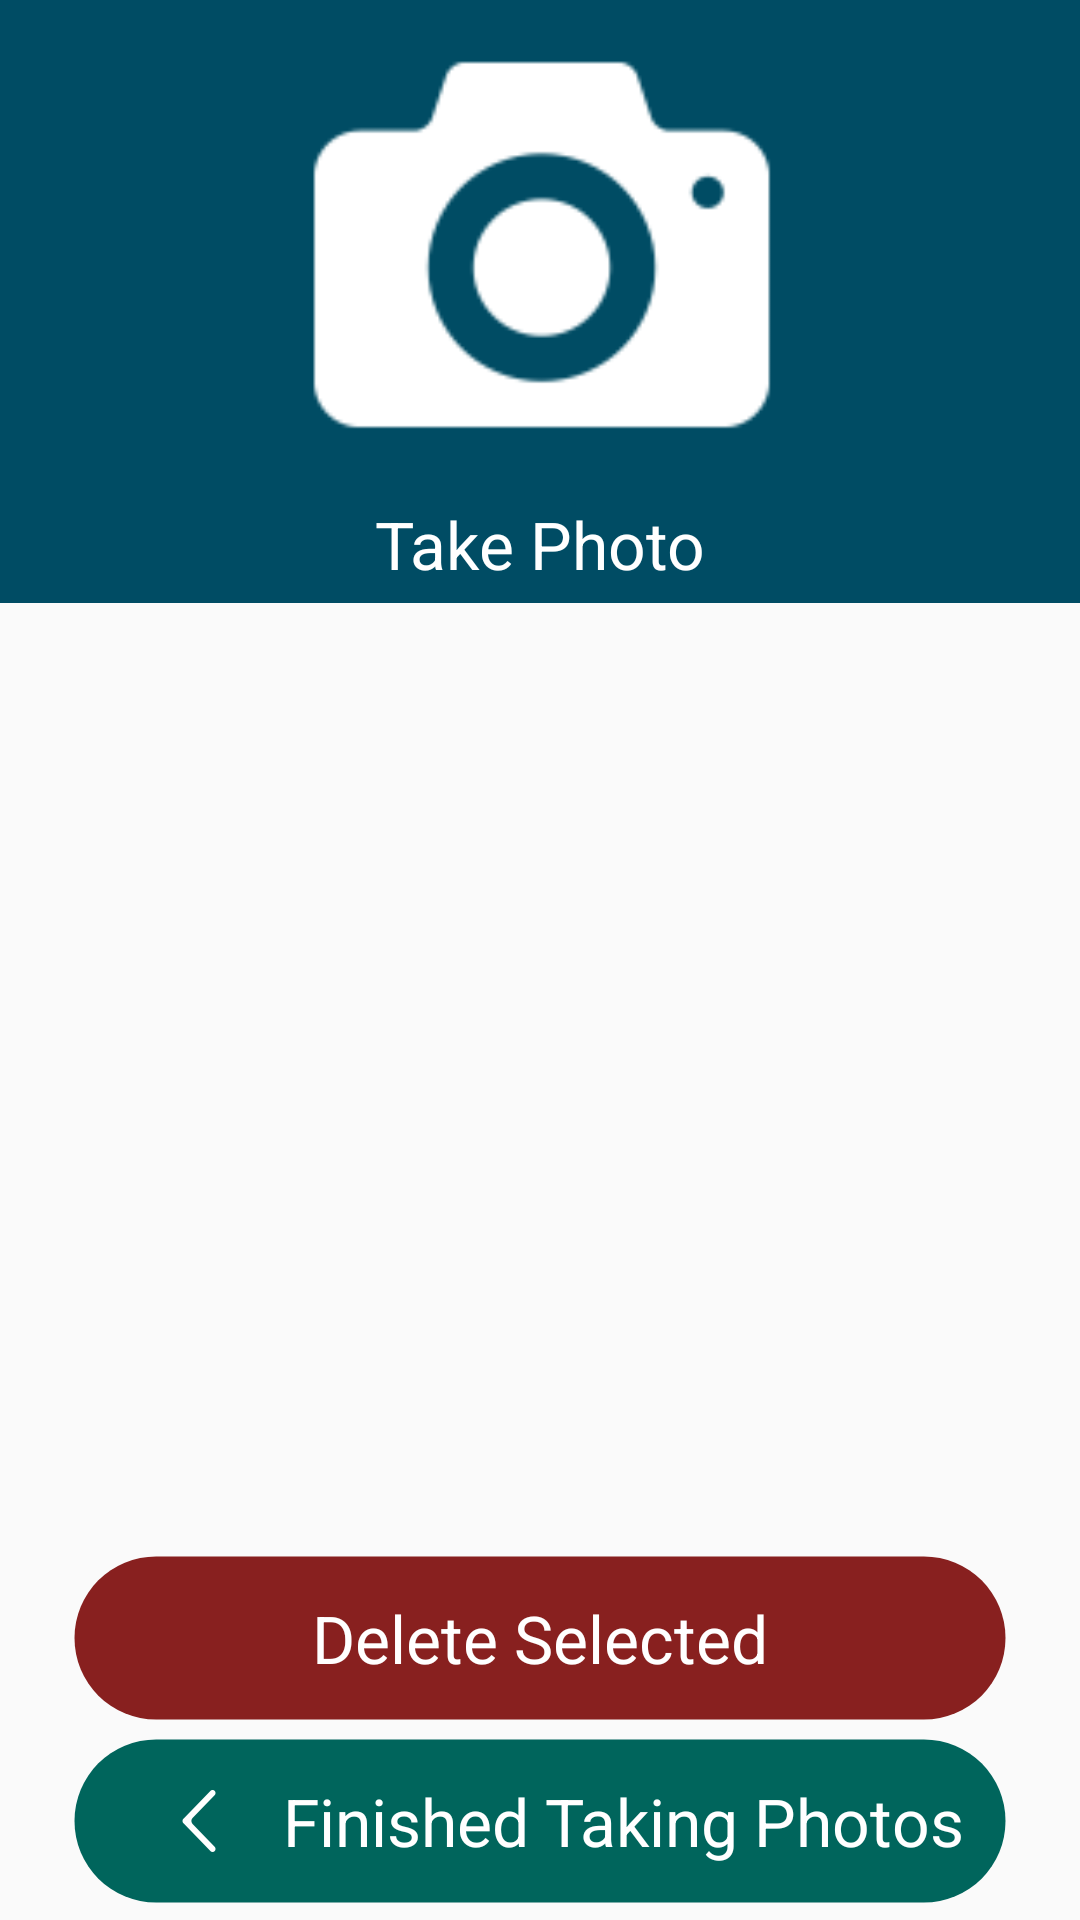

Where to tap for icons on this 1080*1920 app screen, as [x,y]:
bottom left arrow: [199,1821]
